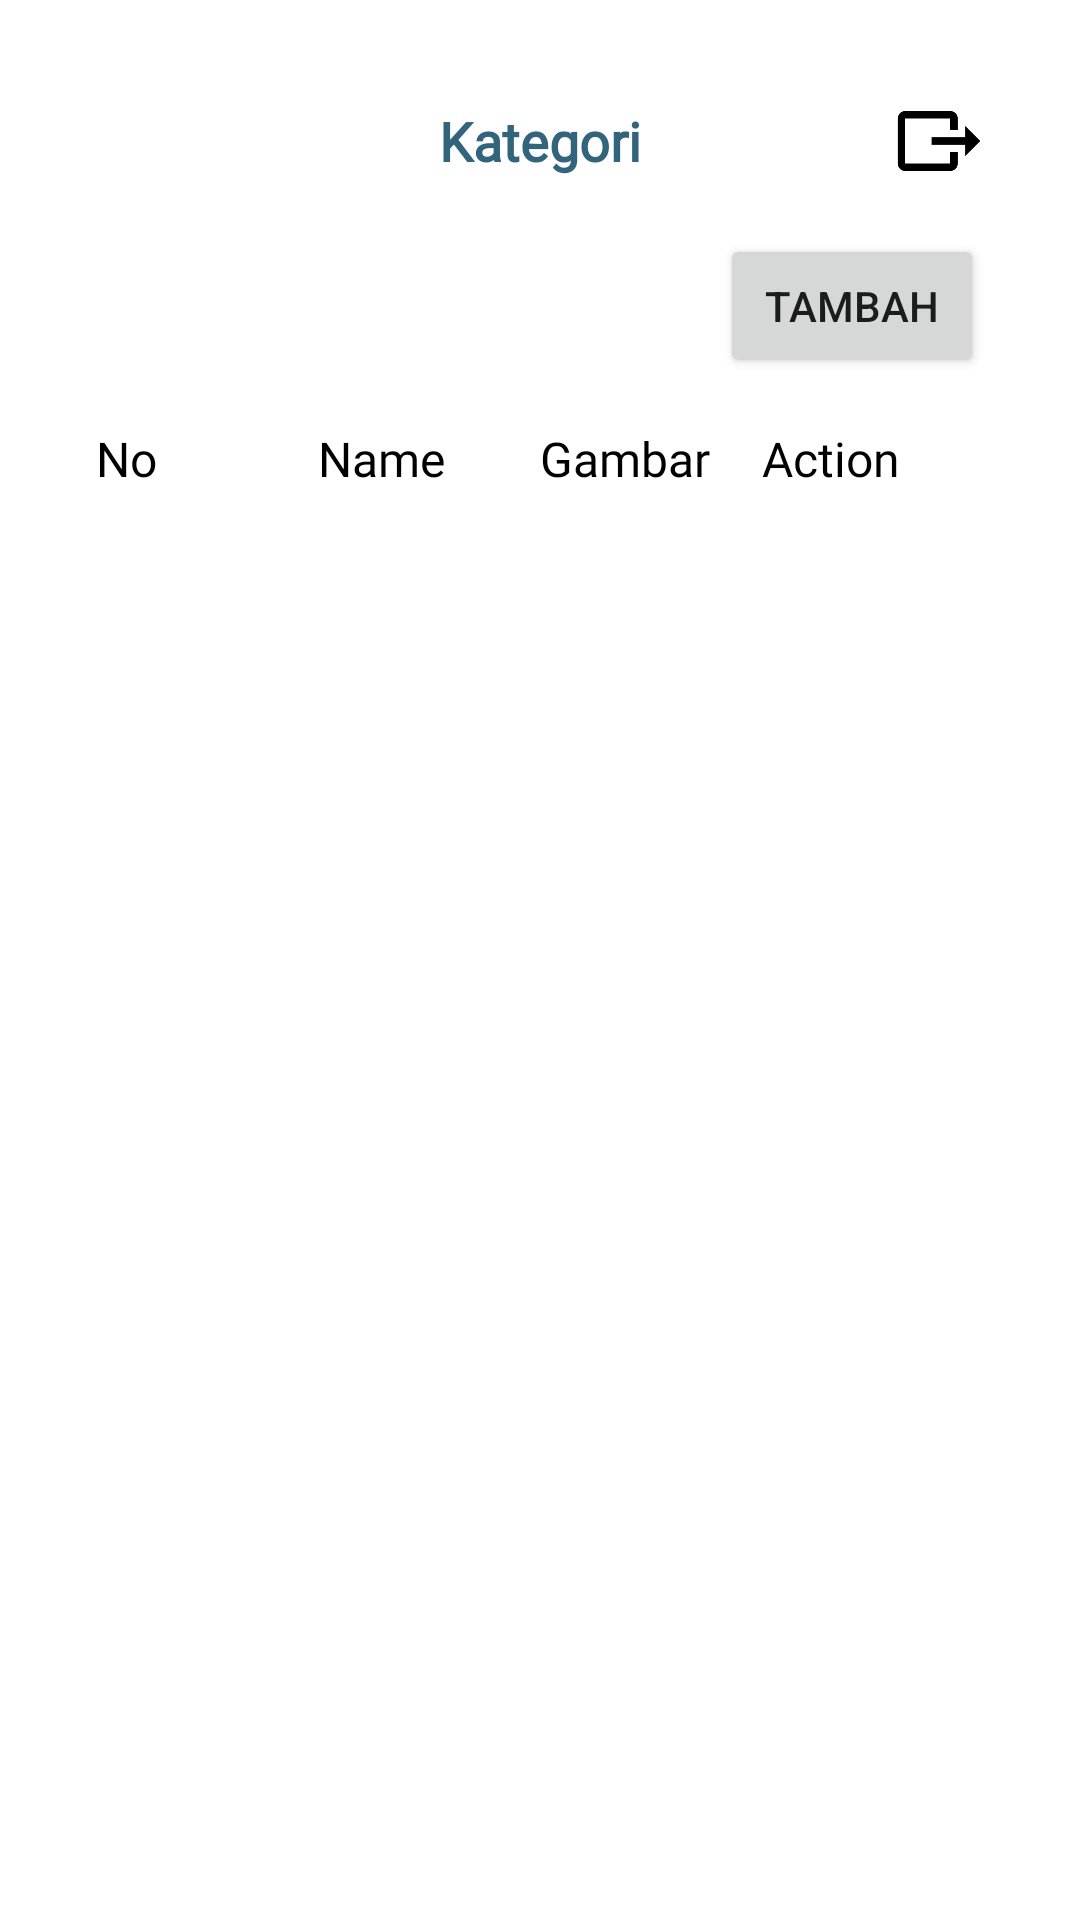

Screen size 1080 x 1920. Icon name, then its box in pixels as {"left": x1, "top": y1, "right": x2, "bottom": y2}:
export: {"left": 897, "top": 111, "right": 980, "bottom": 171}
